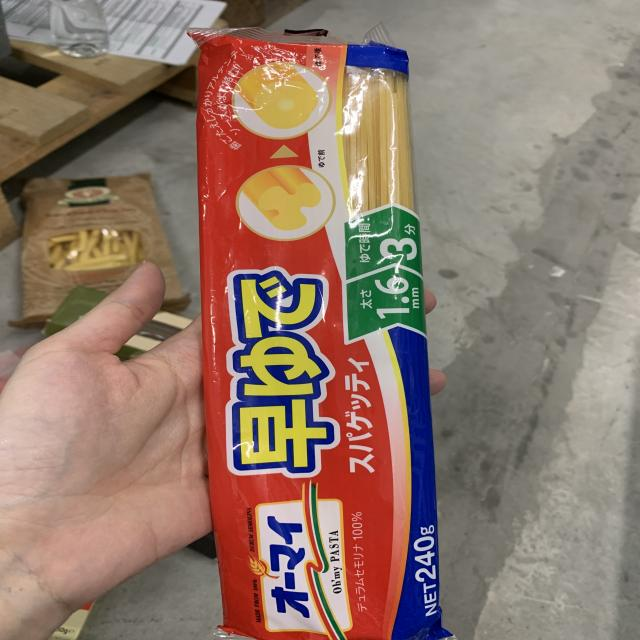object_name: (200, 38, 448, 640)
